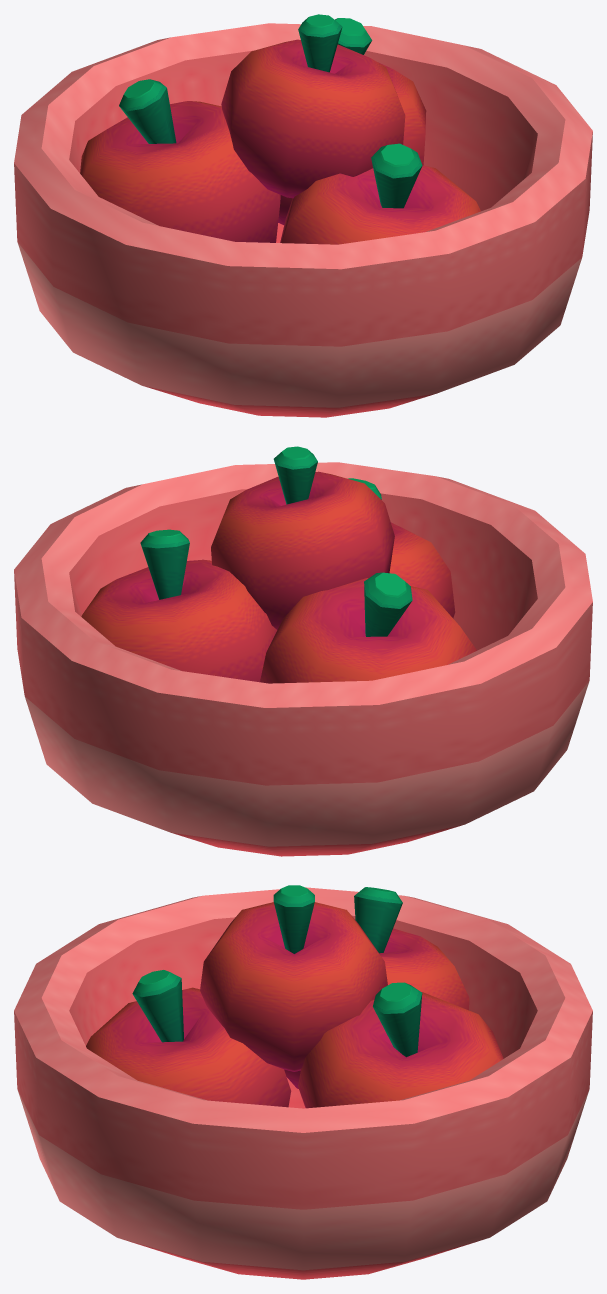
The model's file is icecream_bowl_cherries.gltf.
The picture shows the model from 3 angles, top to bottom: view 1: azimuth 30°, elevation 25°; view 2: azimuth 150°, elevation 25°; view 3: azimuth 270°, elevation 25°; orthographic projection.
Visible parts, largest first — view 1: icecream_bowl_cherries; view 2: icecream_bowl_cherries; view 3: icecream_bowl_cherries.
Part boxes in pixels (left/top/right/bottom): icecream_bowl_cherries: left=14, top=14, right=592, bottom=417; icecream_bowl_cherries: left=14, top=446, right=592, bottom=856; icecream_bowl_cherries: left=14, top=885, right=592, bottom=1279.
Bounding box in the file's own units: 0.75 × 0.4618 × 0.75.
Materials: 1 (1 with a texture image).
